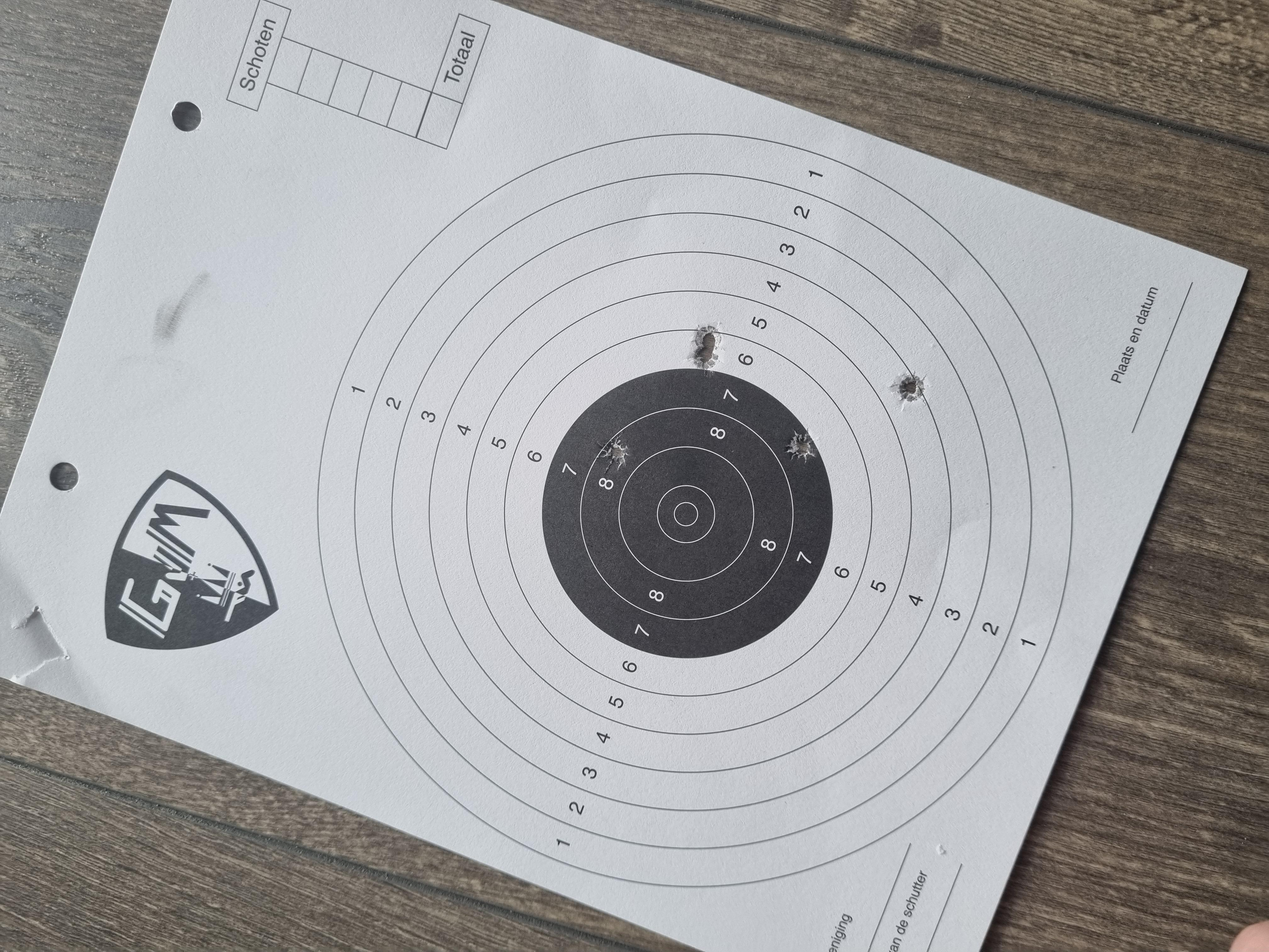hole: (724, 668, 772, 696), (637, 447, 690, 472), (650, 589, 699, 613), (769, 518, 802, 541), (801, 520, 835, 541)
